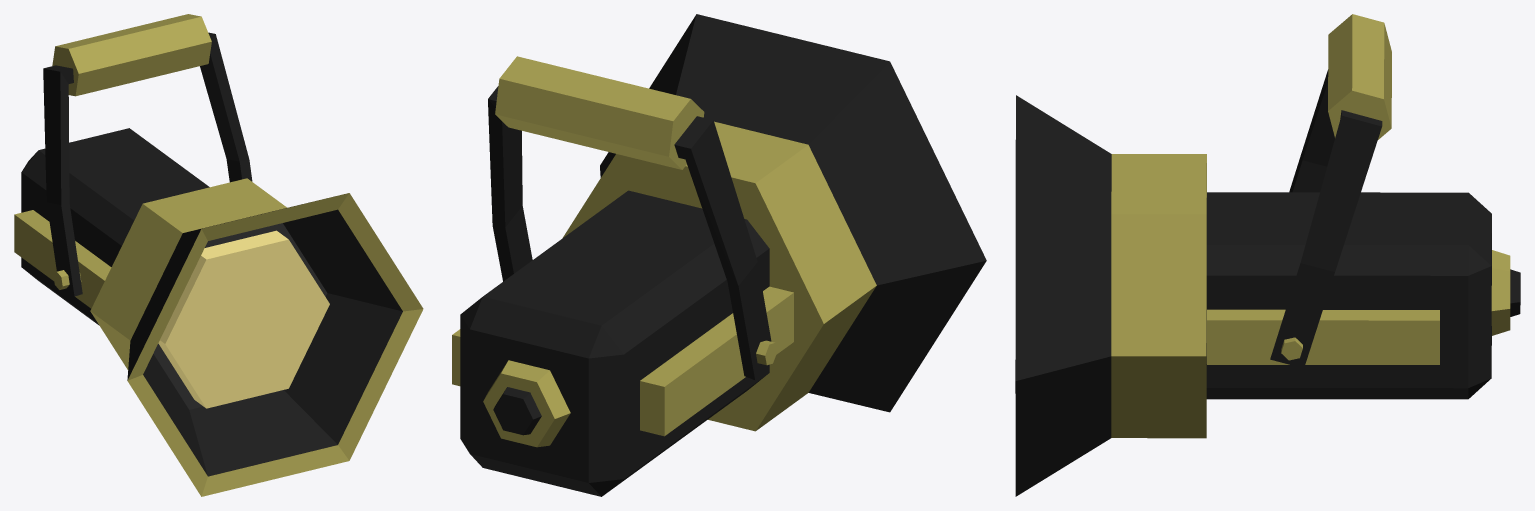
File: flashlight.dae
The picture shows the model from 3 angles, left to right: view 1: azimuth 30°, elevation 25°; view 2: azimuth 150°, elevation 25°; view 3: azimuth 270°, elevation 25°; orthographic projection. The views are drawn at different scales.
Visible parts, largest first — view 1: Cylinder_002; view 2: Cylinder_002; view 3: Cylinder_002.
Boxes of the visible parts, x1=… form: Cylinder_002: x1=14, y1=14, x2=423, y2=496; Cylinder_002: x1=452, y1=14, x2=986, y2=496; Cylinder_002: x1=1015, y1=14, x2=1520, y2=496.
Bounding box in the file's own units: 0.00687 × 0.0086 × 0.00757.
